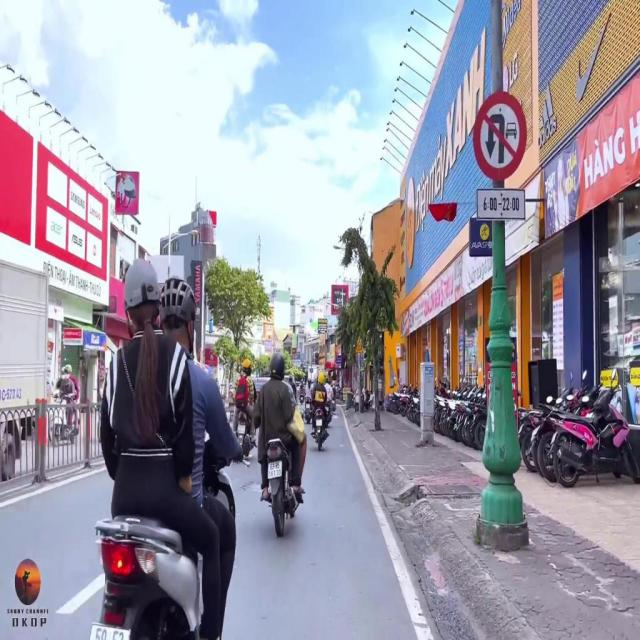cam_o_to_quay_dau_xe: (472, 91, 528, 181)
khac: (476, 190, 525, 218)
